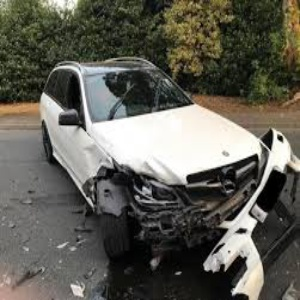bumper: (135, 181, 261, 258)
